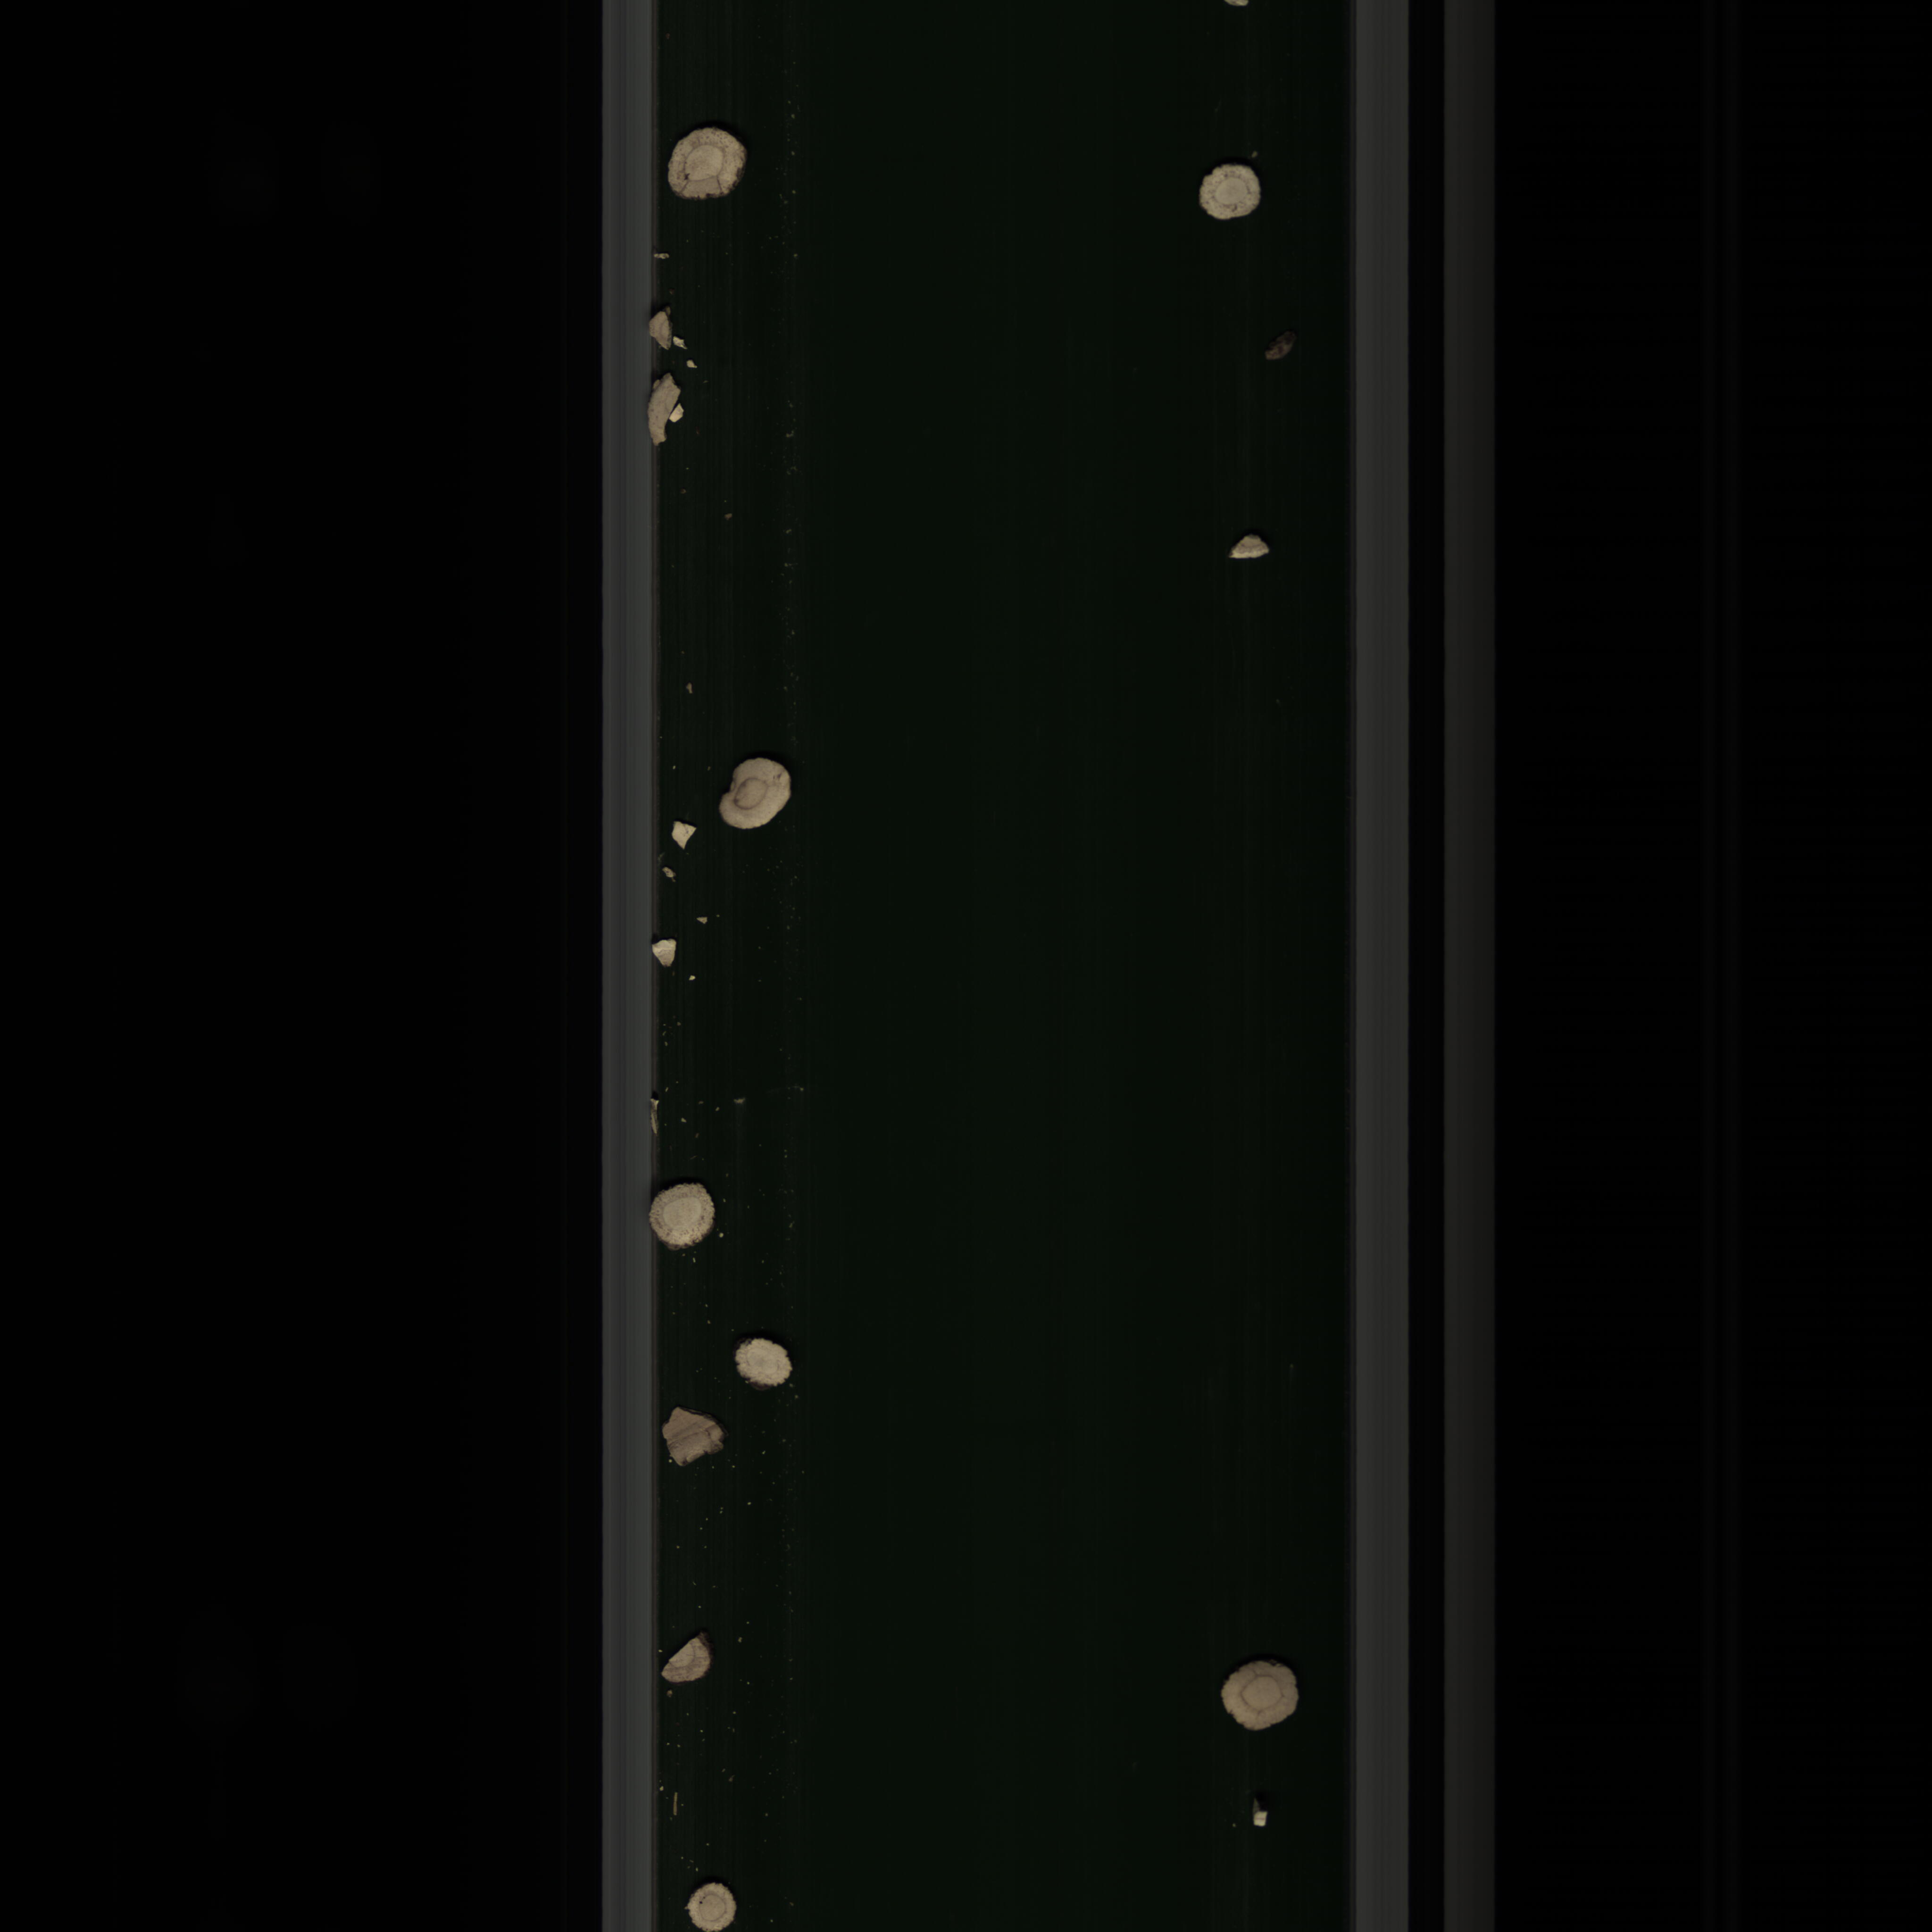bark: (1246, 331, 1306, 364)
debris: (656, 1401, 734, 1476), (658, 1631, 722, 1686), (648, 372, 686, 453), (1228, 522, 1276, 570), (648, 304, 683, 357), (649, 934, 688, 970), (672, 816, 702, 851), (1247, 1806, 1276, 1838)
